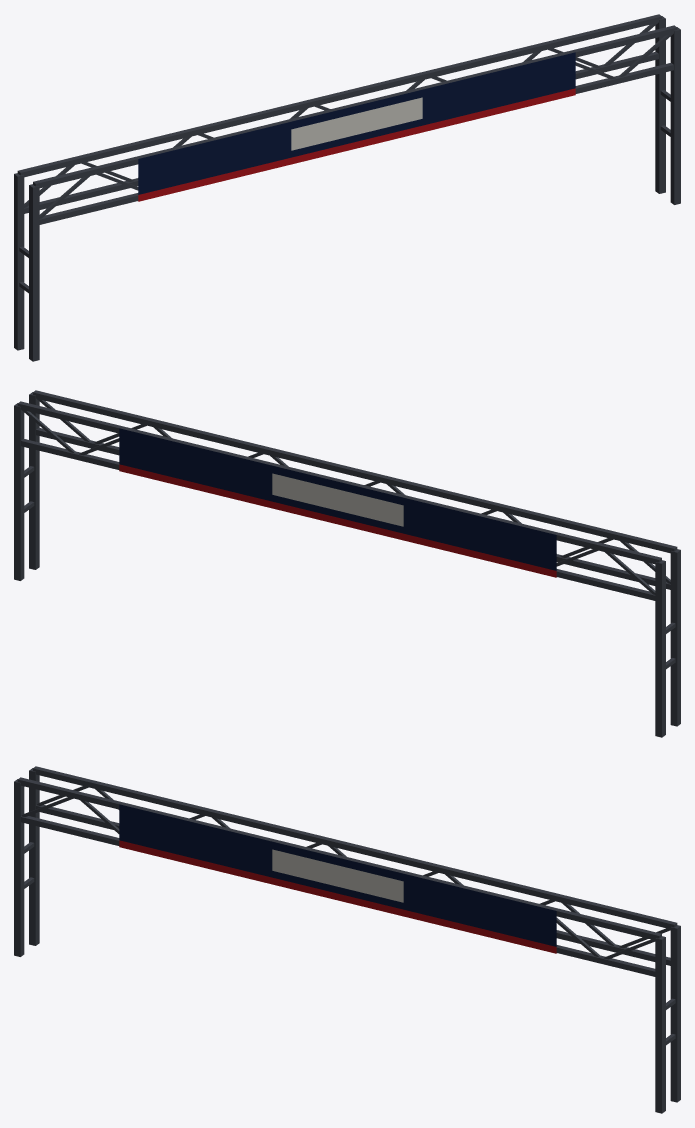
The model's file is gantry.glb.
3 renders of one model, top to bottom at view 1: azimuth 30°, elevation 25°; view 2: azimuth 150°, elevation 25°; view 3: azimuth 330°, elevation 25°, orthographic.
Visible parts, largest first — view 1: chunk_0_0; view 2: chunk_0_0; view 3: chunk_0_0.
Boxes of the visible parts, x1,y1,x2,y2 form: chunk_0_0: (14, 14, 680, 361); chunk_0_0: (14, 390, 680, 737); chunk_0_0: (14, 766, 680, 1113).
Bounding box in the file's own units: 44.45 × 11.6 × 2.28.
